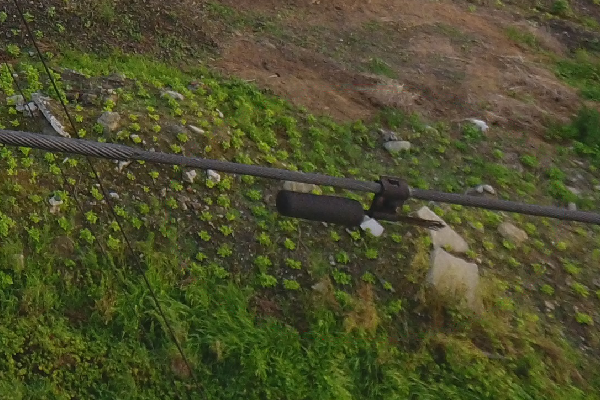damper_defect: (271, 171, 448, 230)
